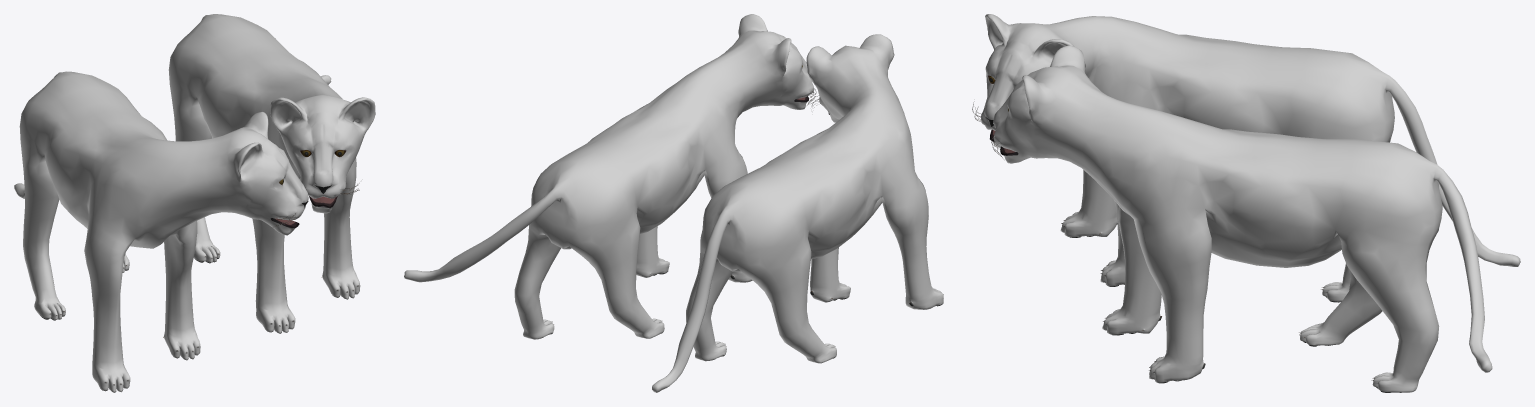
Rendered from lion.dae.
The picture shows the model from 3 angles, left to right: view 1: azimuth 30°, elevation 25°; view 2: azimuth 150°, elevation 25°; view 3: azimuth 270°, elevation 25°; orthographic projection. The views are drawn at different scales.
Visible parts, largest first — view 1: skpC669 (×2); view 2: skpC669 (×2); view 3: skpC669 (×2).
Boxes of the visible parts, <box> form: skpC669 (×2): <box>14,14,375,392</box>; skpC669 (×2): <box>404,14,943,392</box>; skpC669 (×2): <box>980,14,1520,392</box>.
Bounding box in the file's own units: 51.32 × 53.78 × 29.89.
